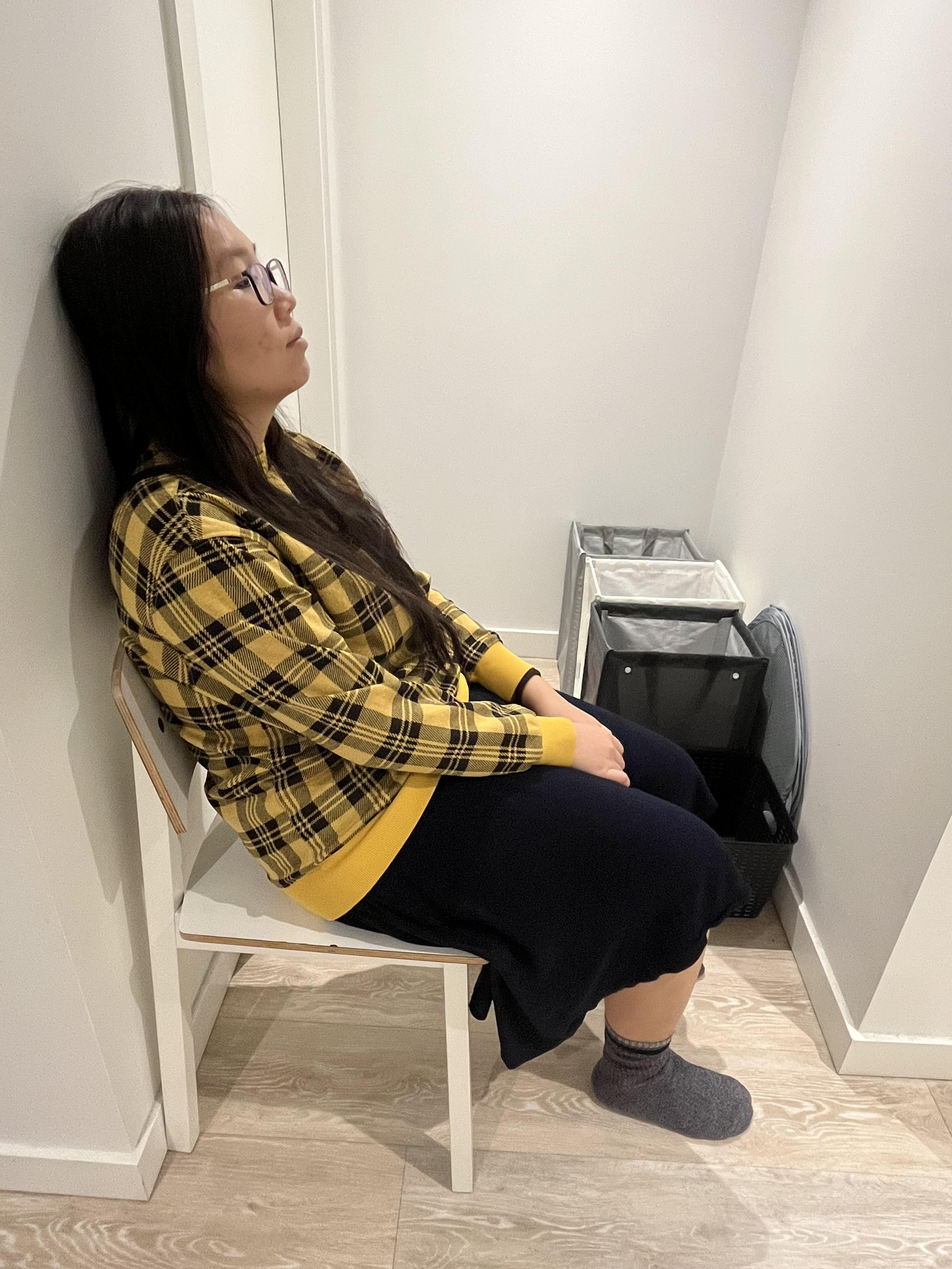BadPosture: (50, 180, 750, 1140)
